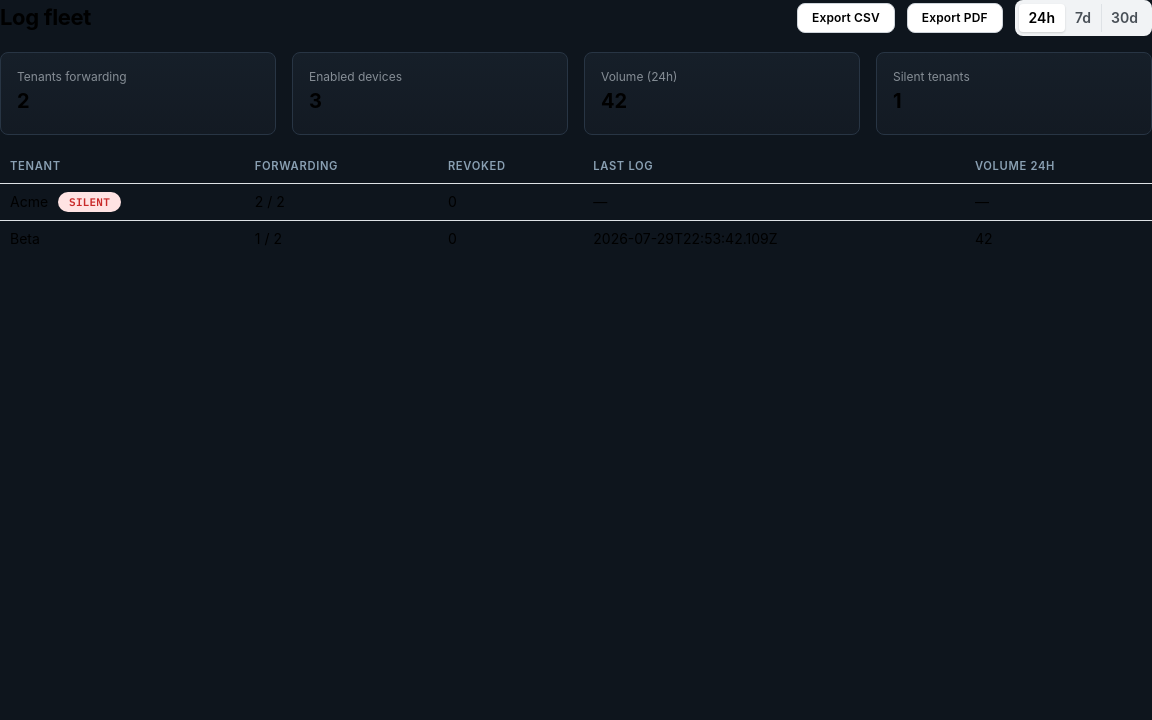
Test: LogFleetPage › drills into a tenant's per-device list with a silent device flagged
Check: the text "Acme" is shown, box [10,193,48,210]
What coordinates should you click on to do the following:
click the row with test id "fleet-row-a"
I would click on:
 (576, 202)
Its box is [0,183,1151,220].
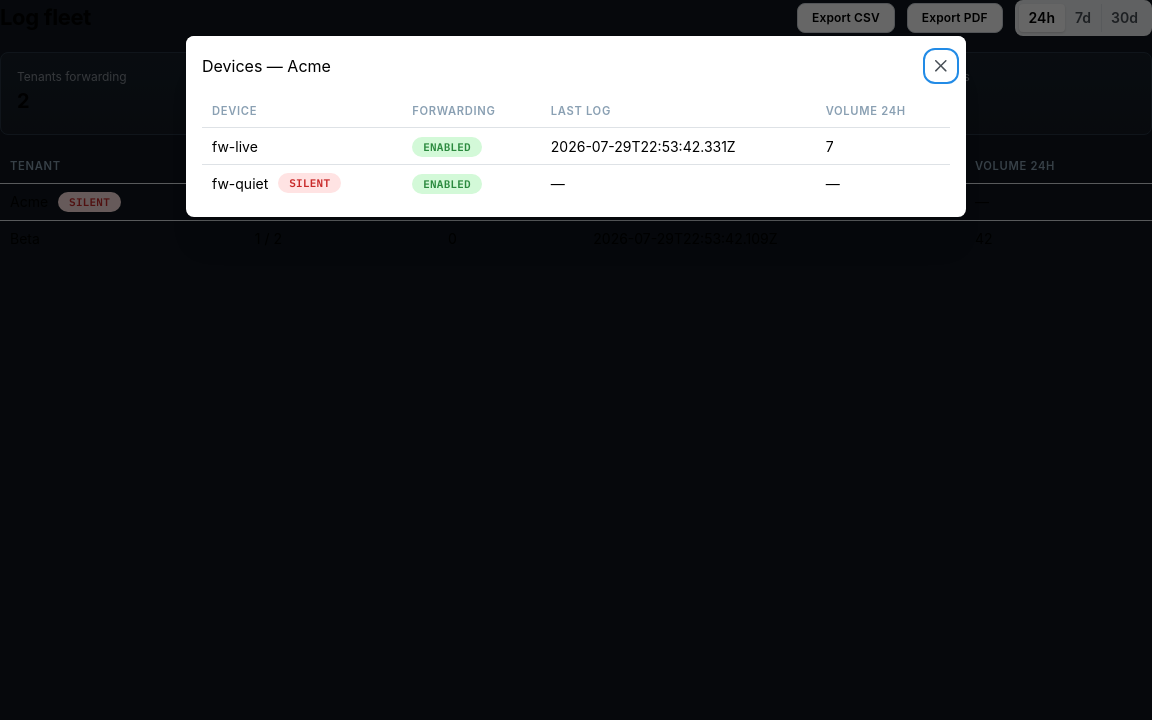
Check: the text "fw-quiet" is shown, box [212,174,268,192]
Check: the text "fw-live" is shown, box [212,138,258,154]
Check: the element with test id "device-silent-d2" is shown, box [278,173,341,193]
